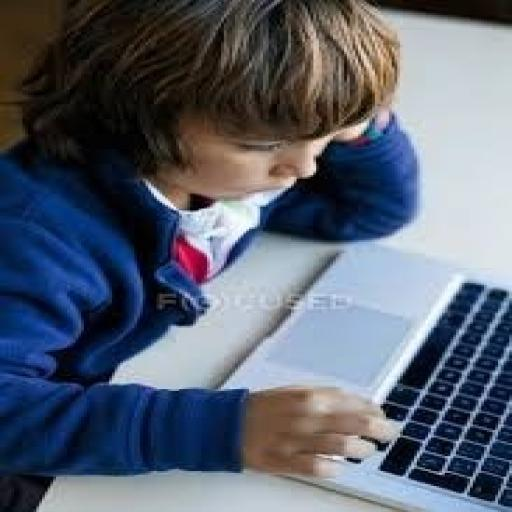using_laptop: (110, 128, 512, 506)
